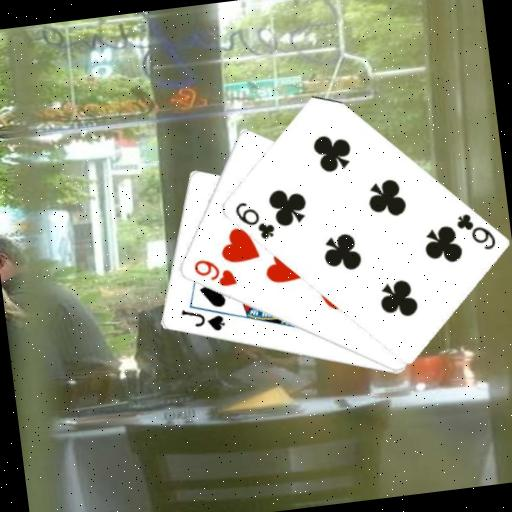6C: (230, 195, 277, 245), (451, 207, 498, 255)
9H: (189, 252, 239, 292)
JS: (178, 302, 228, 338)
